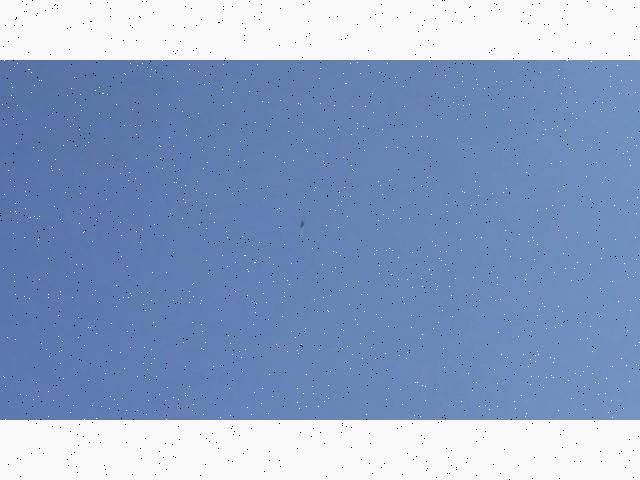Anti-Drone: (286, 207, 322, 243)
